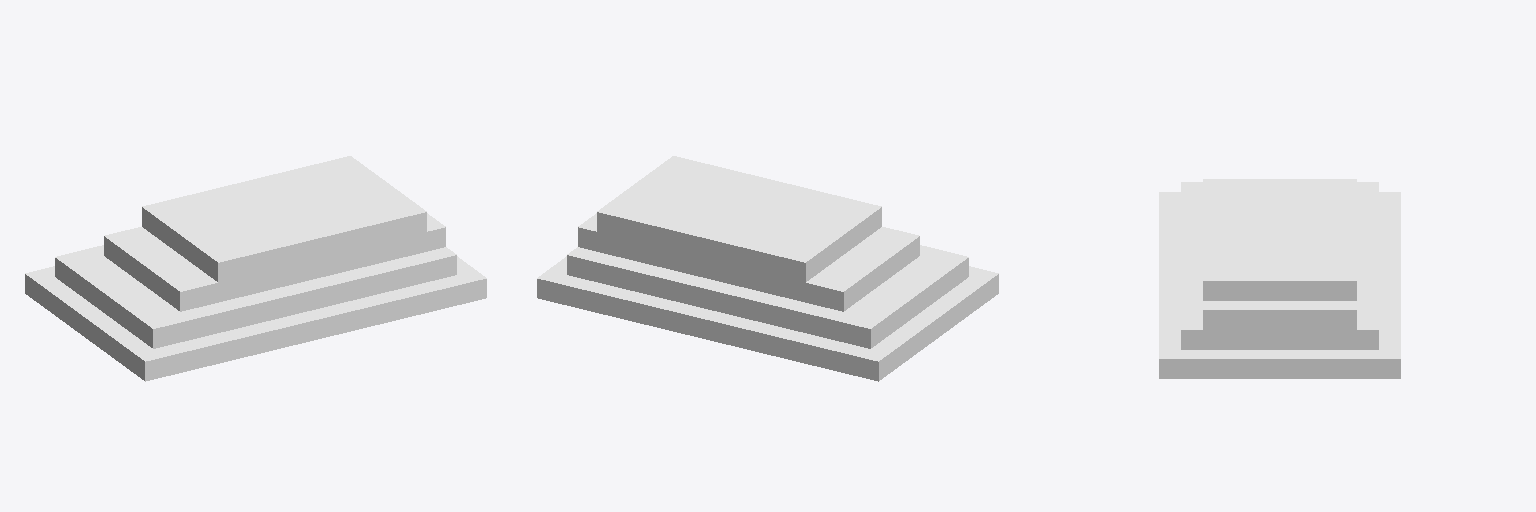
Rendered from oblako.obj.
3 views of the same model, side by side, from view 1: azimuth 30°, elevation 25°; view 2: azimuth 150°, elevation 25°; view 3: azimuth 270°, elevation 25° (orthographic).
Parts seen in each view (by area): view 1: object 1; view 2: object 1; view 3: object 1.
Part boxes in pixels (bbox=[...]): object 1: bbox=[25, 156, 486, 381]; object 1: bbox=[537, 156, 998, 381]; object 1: bbox=[1159, 179, 1400, 378].
Size of the model in its own units: 1.8 by 0.4 by 1.1.